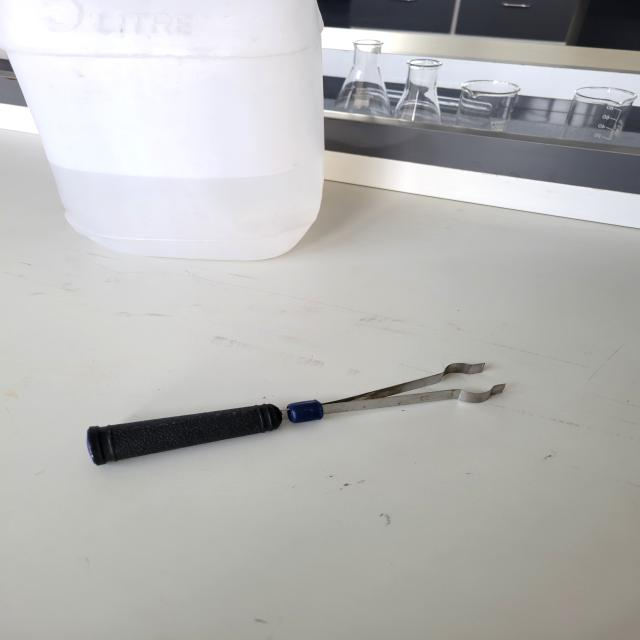TestTube_Holder: (69, 345, 520, 470)
